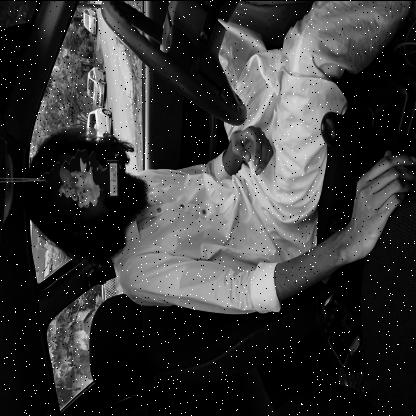no_seatbelt: (21, 110, 271, 272)
